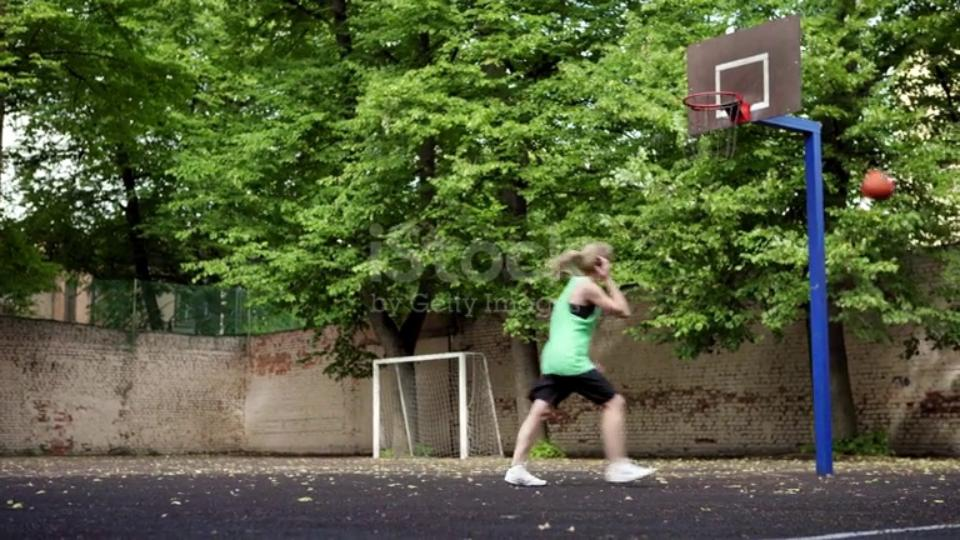hoop: (680, 92, 750, 115)
